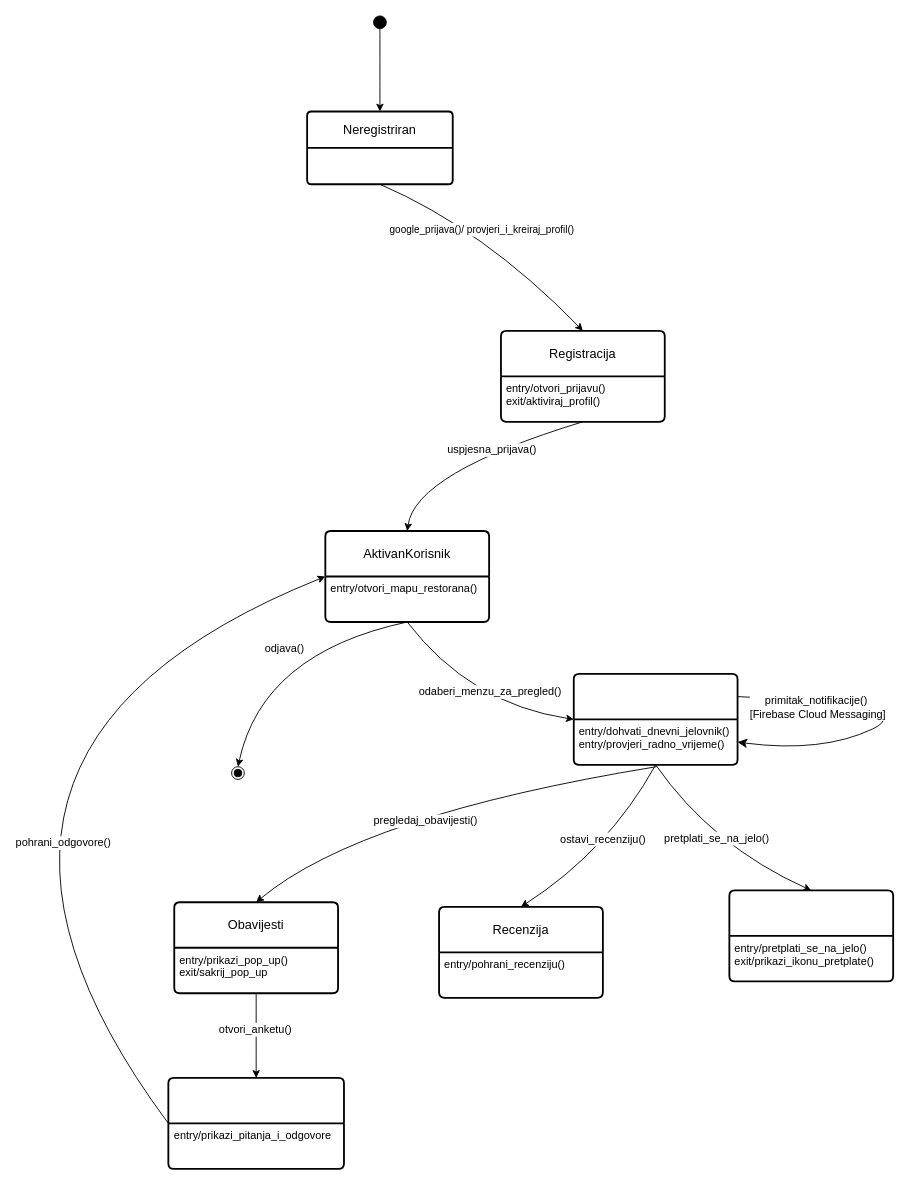
The diagram is 910 pixels wide and 1186 high, and some of its shapes have lost their labels. Here are the shapes that lost their labels. From the top down, the box of each, then its label:
(572, 672, 738, 765): PregledPonude
(728, 889, 894, 982): Pretplata
(167, 1077, 344, 1169): Anketa
